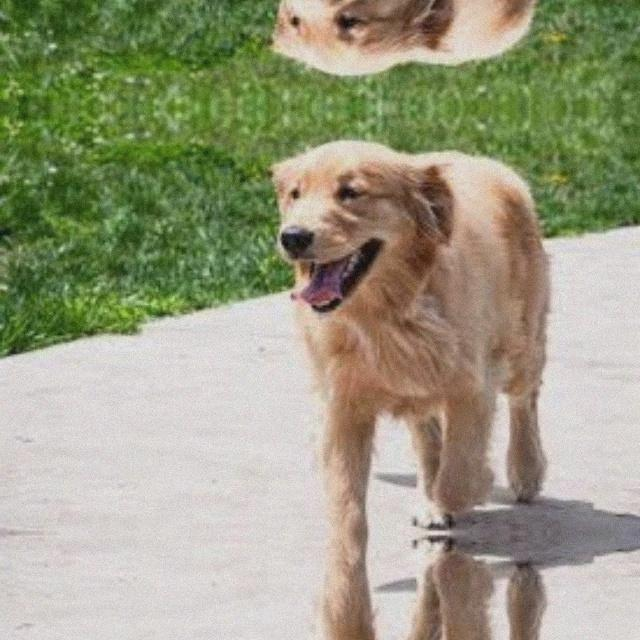dog: (271, 133, 577, 533), (271, 533, 577, 640), (271, 0, 577, 81)
